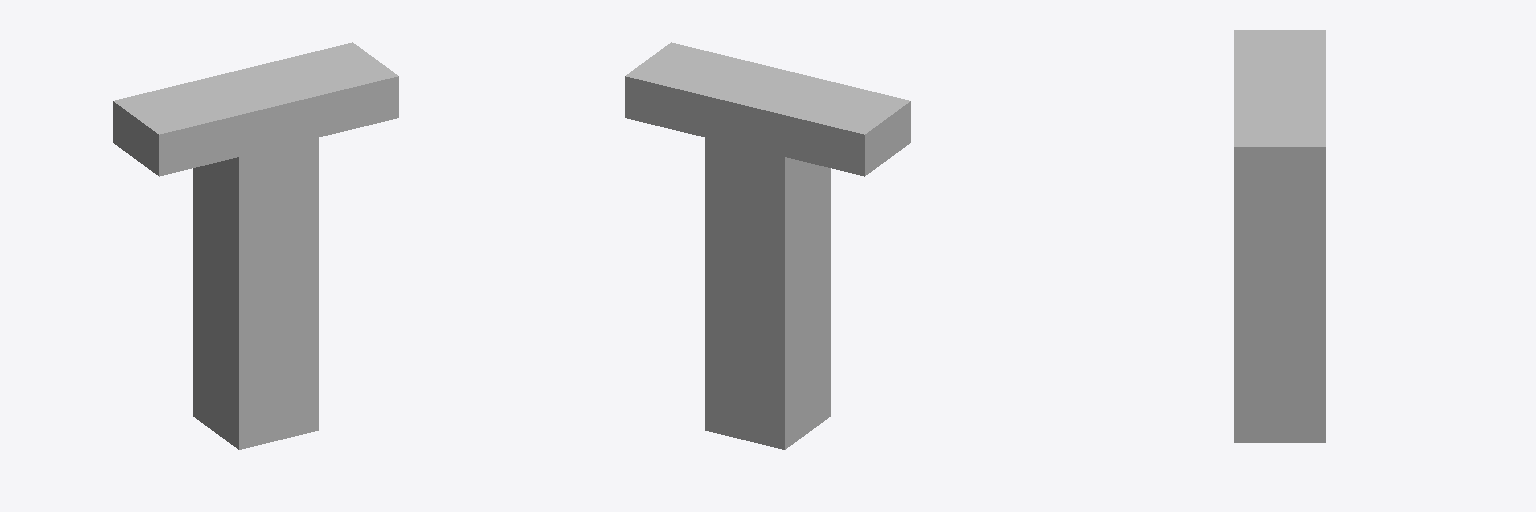
The model's file is hand_pump_handle_3.obj.
The picture shows the model from 3 angles: view 1: azimuth 30°, elevation 25°; view 2: azimuth 150°, elevation 25°; view 3: azimuth 270°, elevation 25°; orthographic projection.
Visible parts, largest first — view 1: node_0_0_0; view 2: node_0_0_0; view 3: node_0_0_0.
Part boxes in pixels (x1,y1,x2,y2): node_0_0_0: (113,42,398,449); node_0_0_0: (625,42,910,449); node_0_0_0: (1234,30,1325,442).
Size of the model in its own units: 0.375 by 0.5 by 0.125.